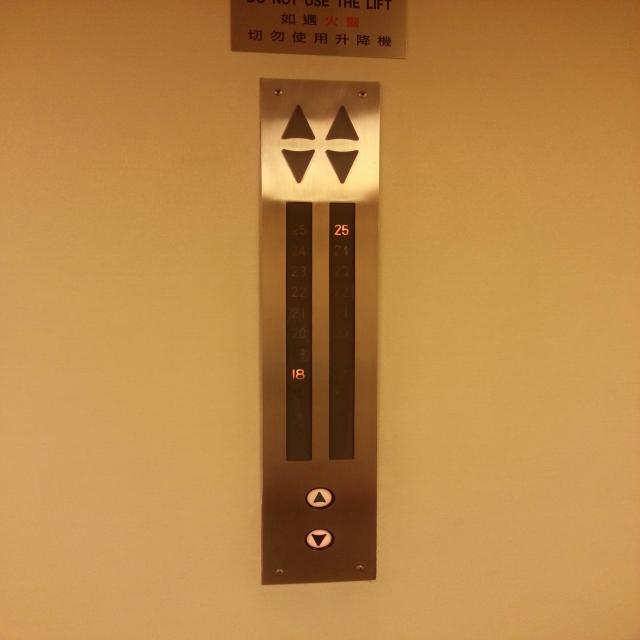down: (304, 528, 334, 550)
led: (284, 201, 312, 461), (329, 201, 355, 461)
up: (304, 486, 336, 510)
